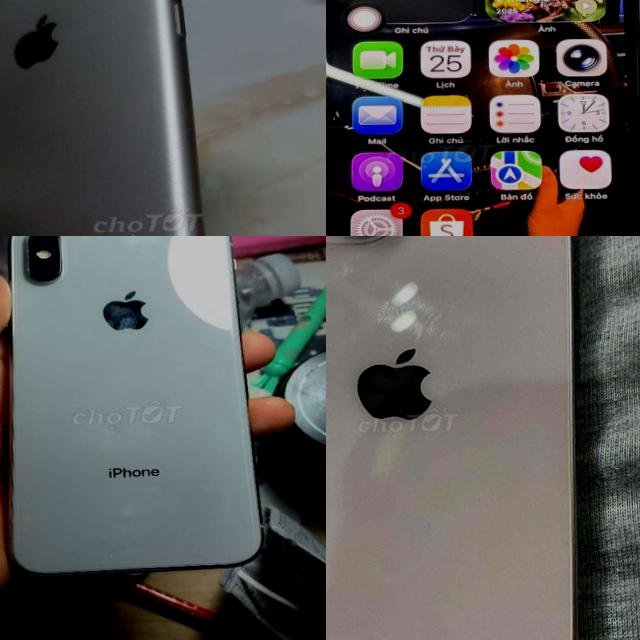gen_11: (326, 0, 640, 236)
gen_12_13: (326, 236, 616, 640)
gen_6: (0, 0, 242, 236)
gen_x_xs: (0, 236, 269, 589)
scratch: (326, 242, 510, 449), (100, 550, 120, 564)
